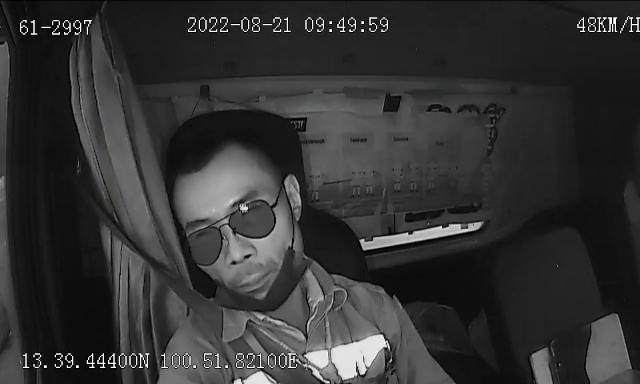SafeDriving: (416, 96, 460, 120), (235, 195, 267, 222)
Seatbelt: (78, 174, 278, 384)
